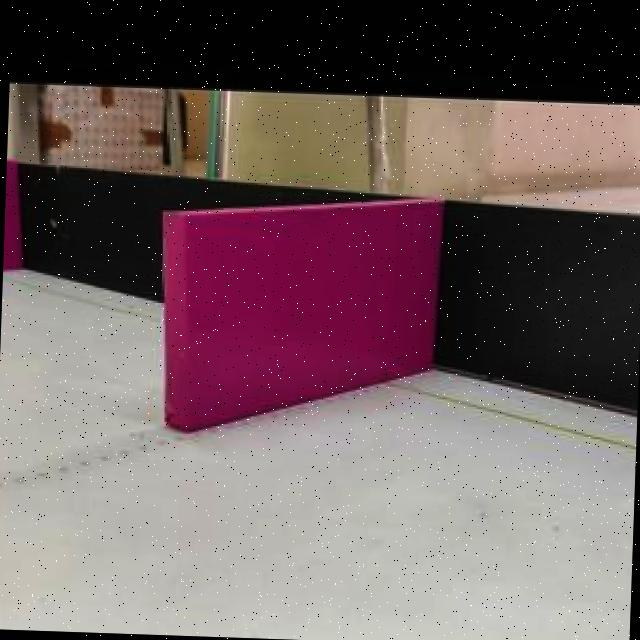xparking: (163, 208, 432, 434)
